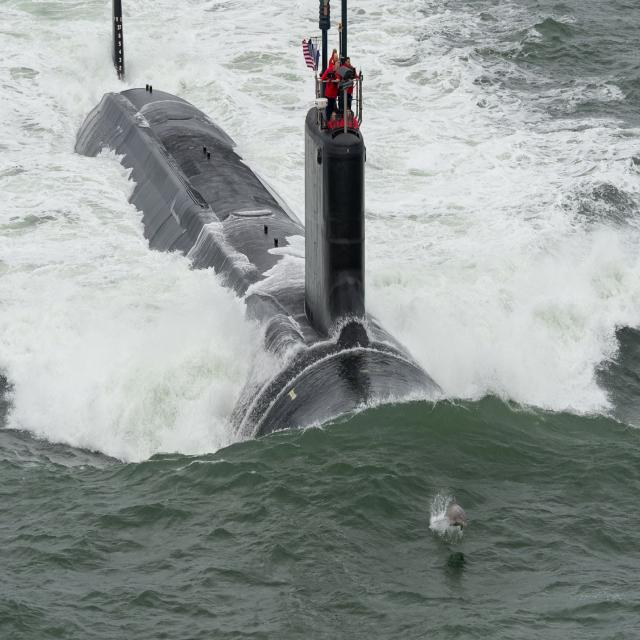submarine: (60, 1, 468, 451)
